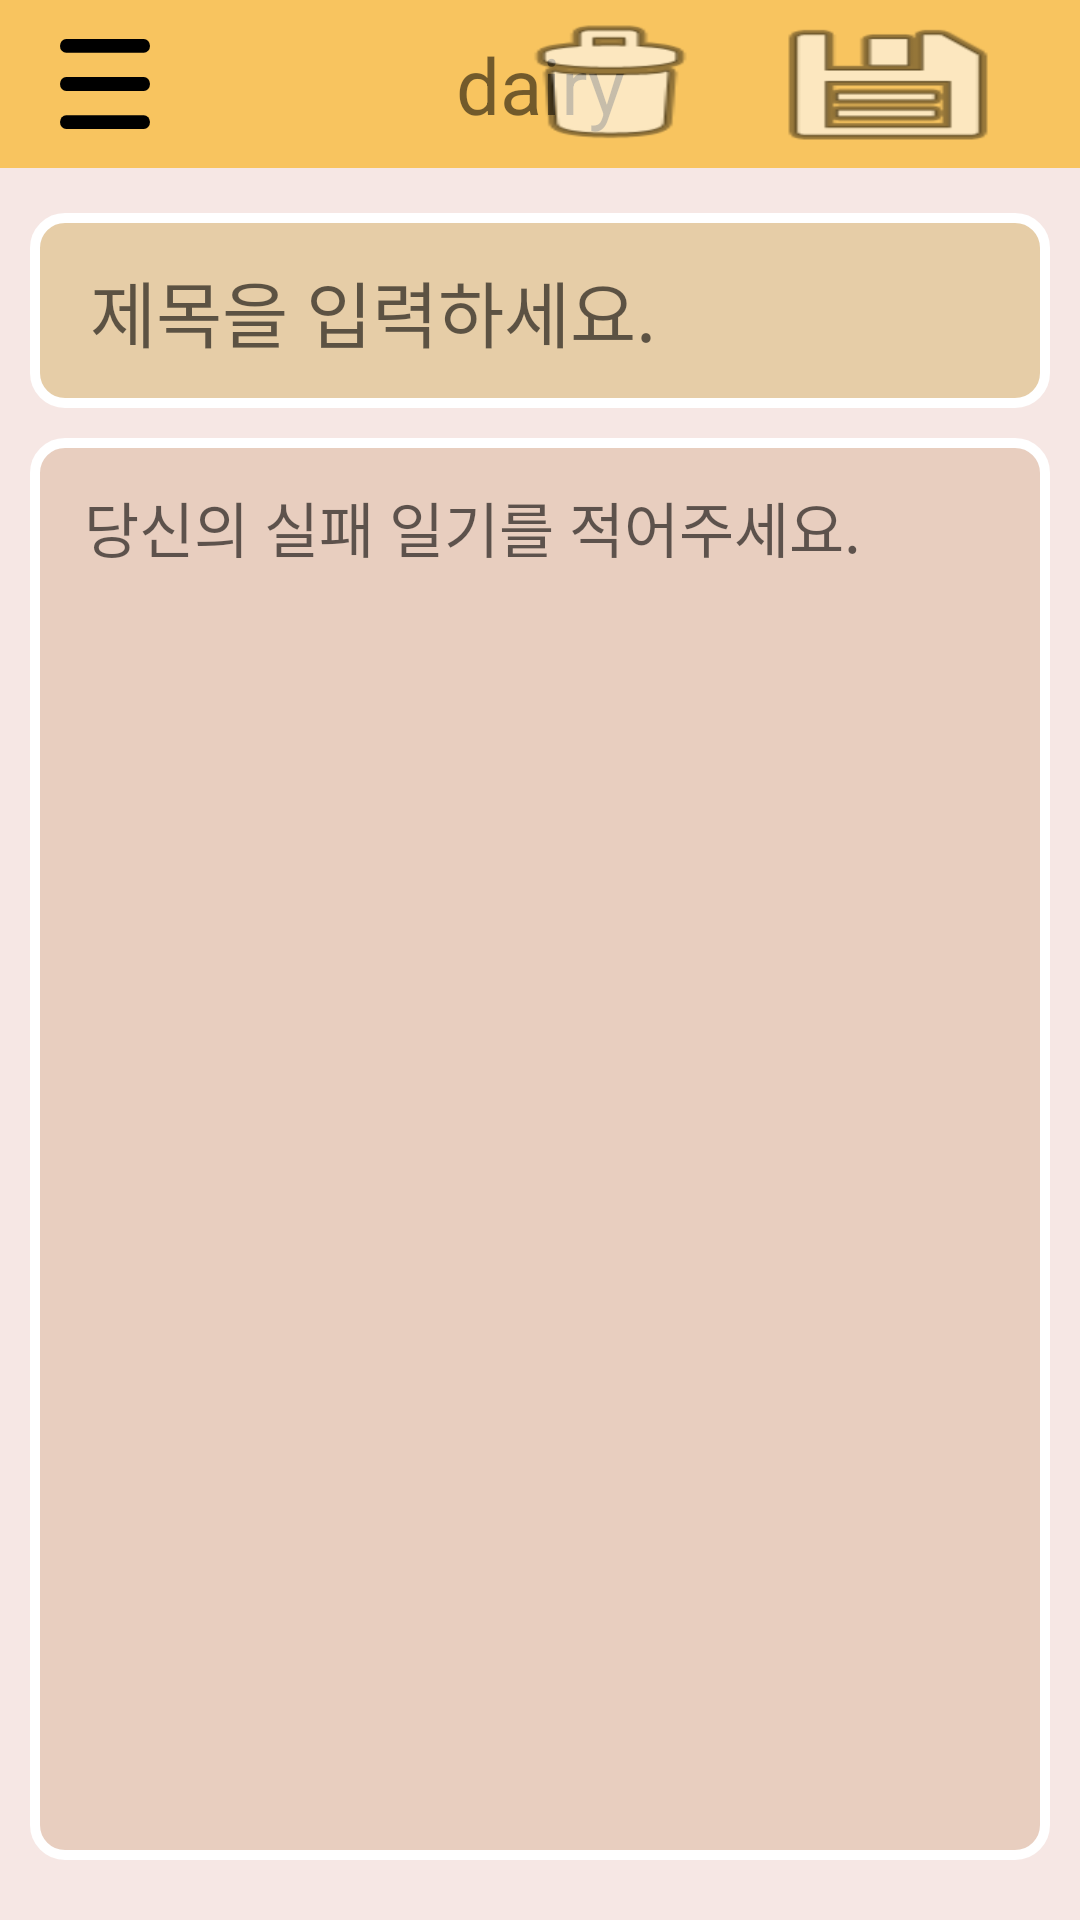

Where icons sit on this 1080*1920 app screen, as (x1, y1, x2, y2):
hamburger: (60, 39, 150, 129)
save: (788, 30, 988, 140)
